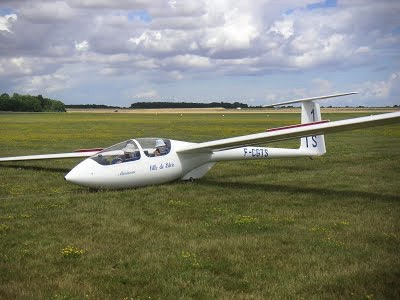Aeronef_de_loisir: (1, 86, 400, 199)
